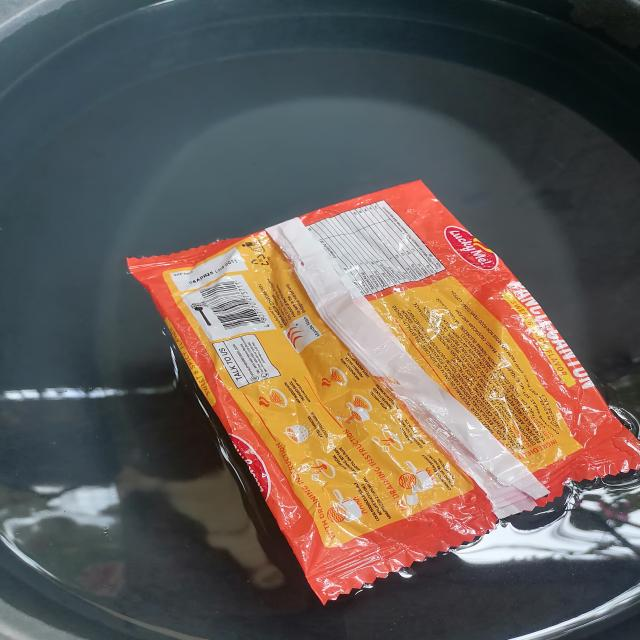Plastic Wrapper: (127, 180, 640, 604)
